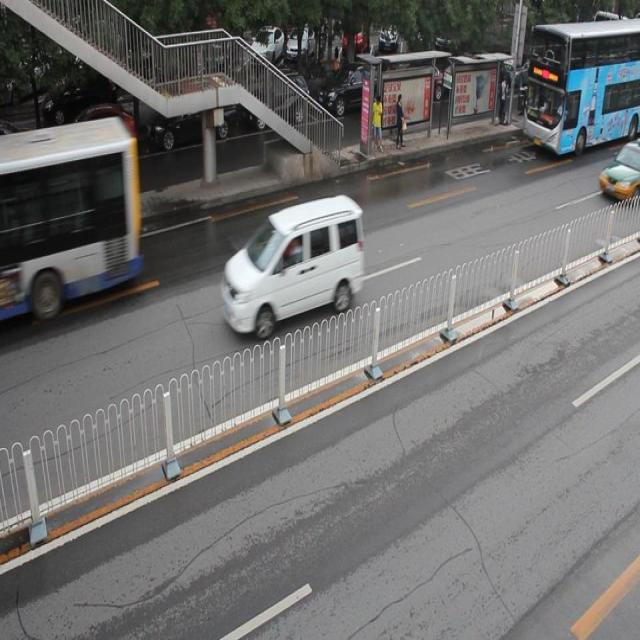car: (51, 104, 135, 173), (145, 95, 235, 156), (317, 65, 391, 129), (247, 73, 312, 132), (597, 140, 640, 206), (1, 127, 33, 181)
truck: (219, 196, 362, 337)
van: (1, 115, 143, 326), (520, 14, 640, 159)
